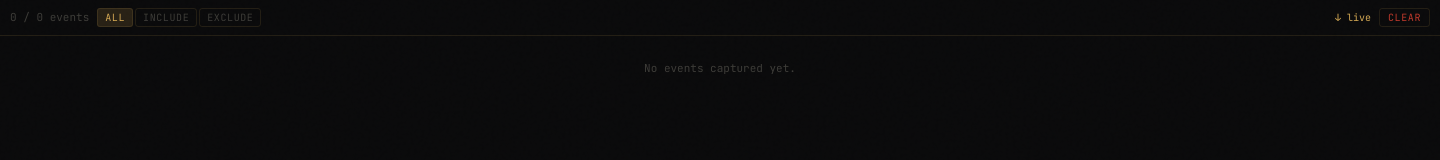
Test: WsDevtools › all mode hides filter input
Click the button with test id "filter-mode-include" at (166, 18), box [135,8,197,27]
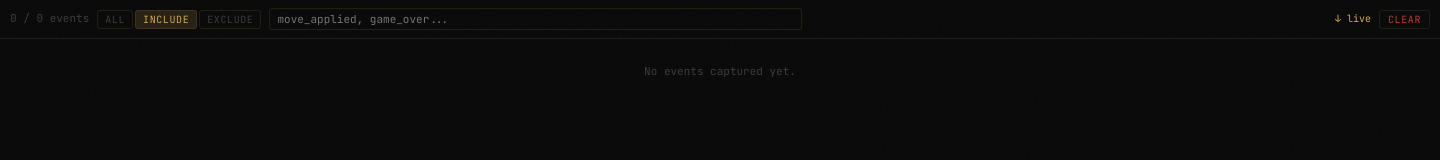
Click the button with test id "filter-mode-all" at (115, 19), box [97,10,133,28]
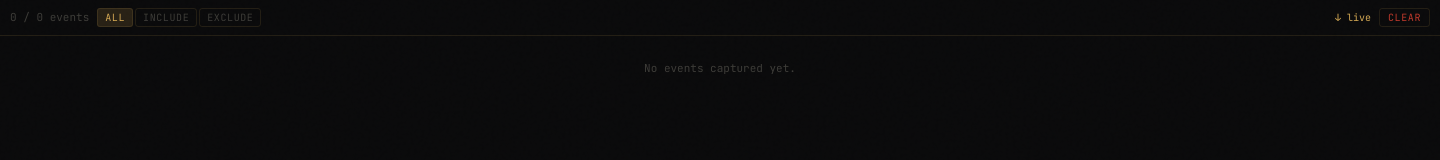
Check: the field with test id "filter-input" is gone
